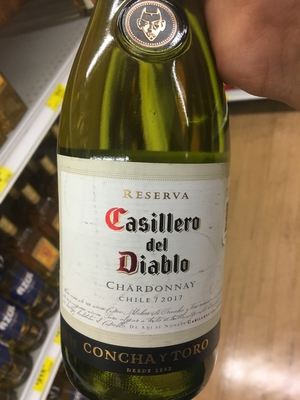casillero del diablo chardonnay: (54, 5, 237, 400)
